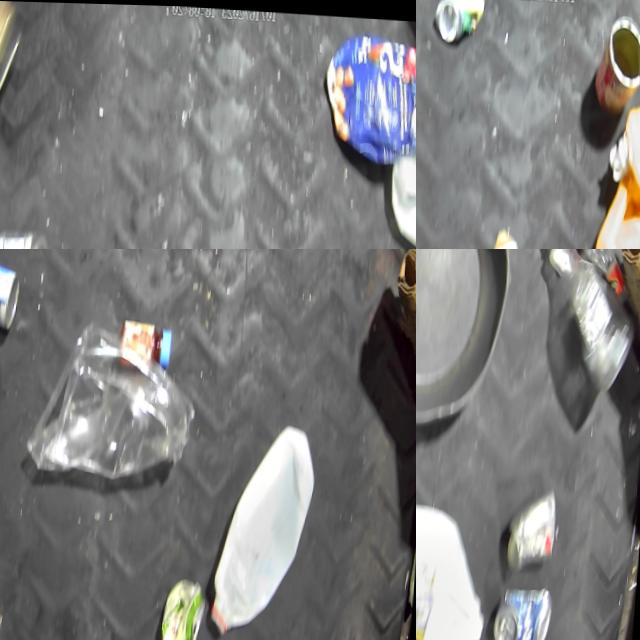can: (510, 482, 564, 574), (594, 15, 640, 109), (499, 575, 557, 640), (163, 573, 212, 640), (435, 0, 484, 40), (0, 249, 23, 328)
milk_jug: (215, 417, 321, 636), (416, 498, 495, 640), (389, 27, 416, 249)
non_white_jug: (323, 34, 416, 157), (584, 178, 640, 249), (614, 99, 640, 201)
plastic_bottle: (534, 249, 640, 382), (547, 249, 636, 292)
